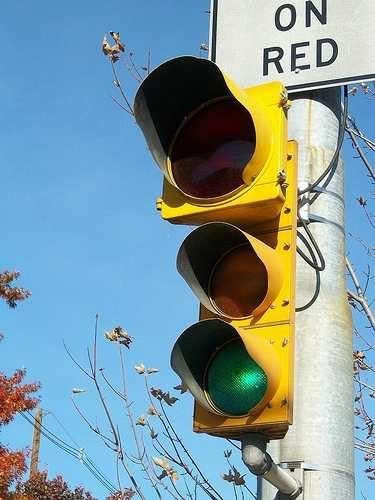green: (130, 39, 296, 439), (166, 314, 290, 427)
